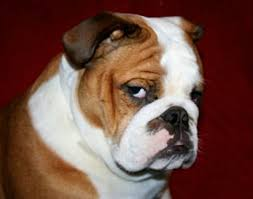Bulldog: (7, 7, 216, 199)
